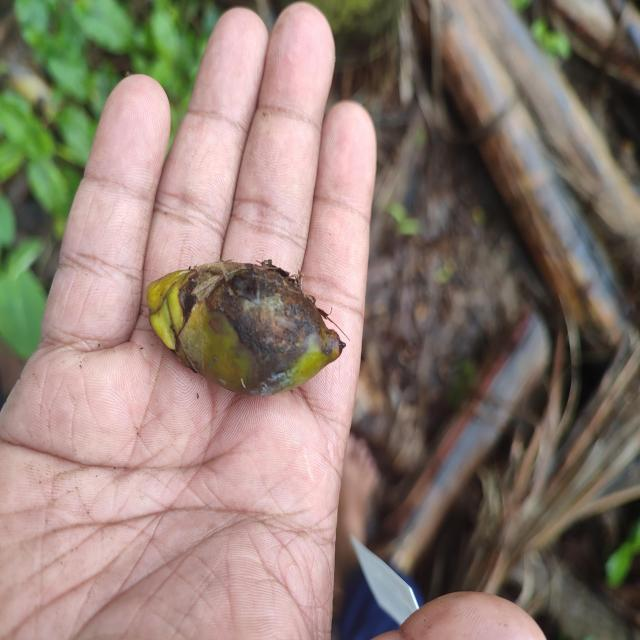damaged: (144, 262, 344, 398)
